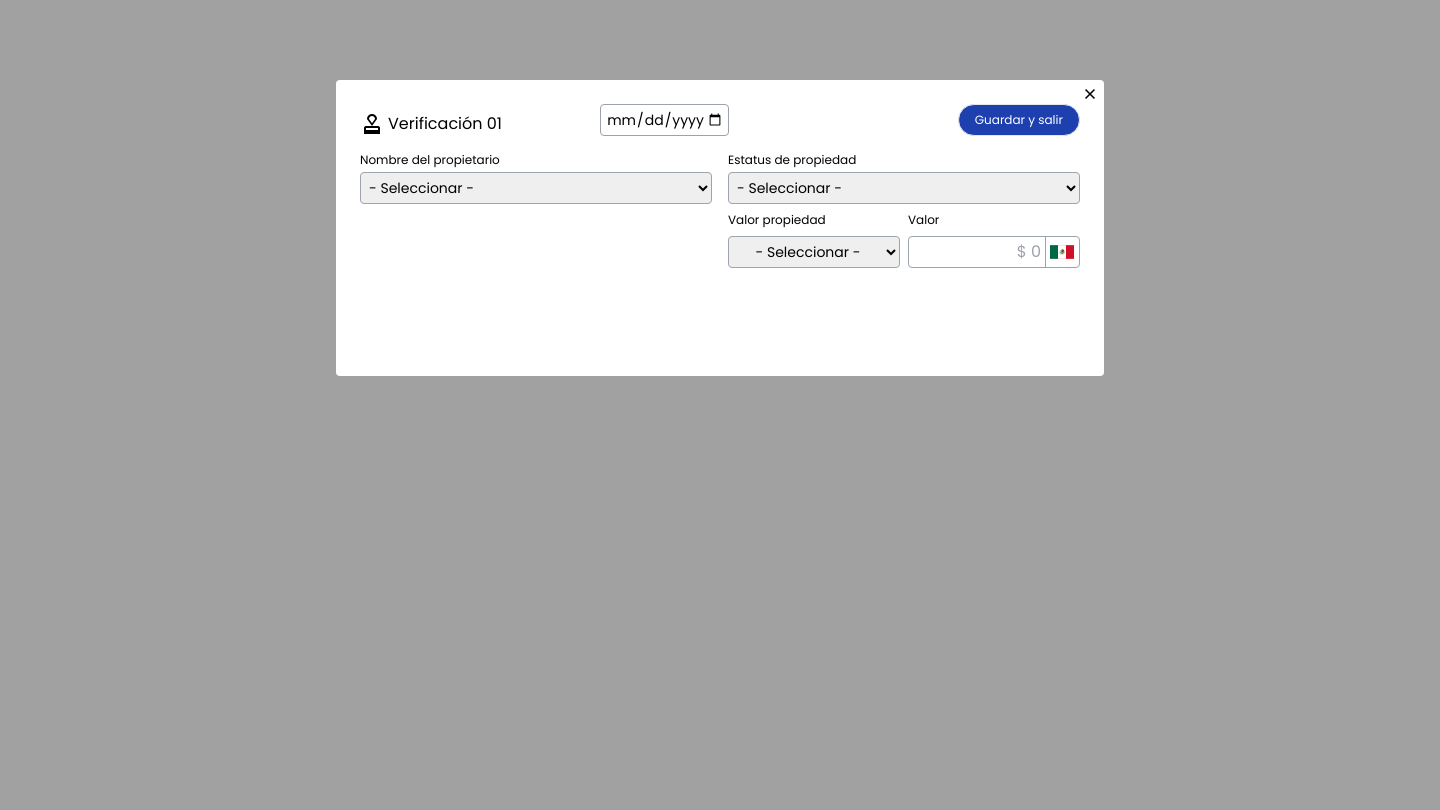
VerificationForm › It should display the applicant name and textbox when selecting "Co-propietario (Solicitante y otros)".
The image size is (1440, 810).
Select "Co-propietario (Solicitante y otros)" in the dropdown labelled "Nombre del propietario" at (536, 188), box left=360, top=172, right=712, bottom=204
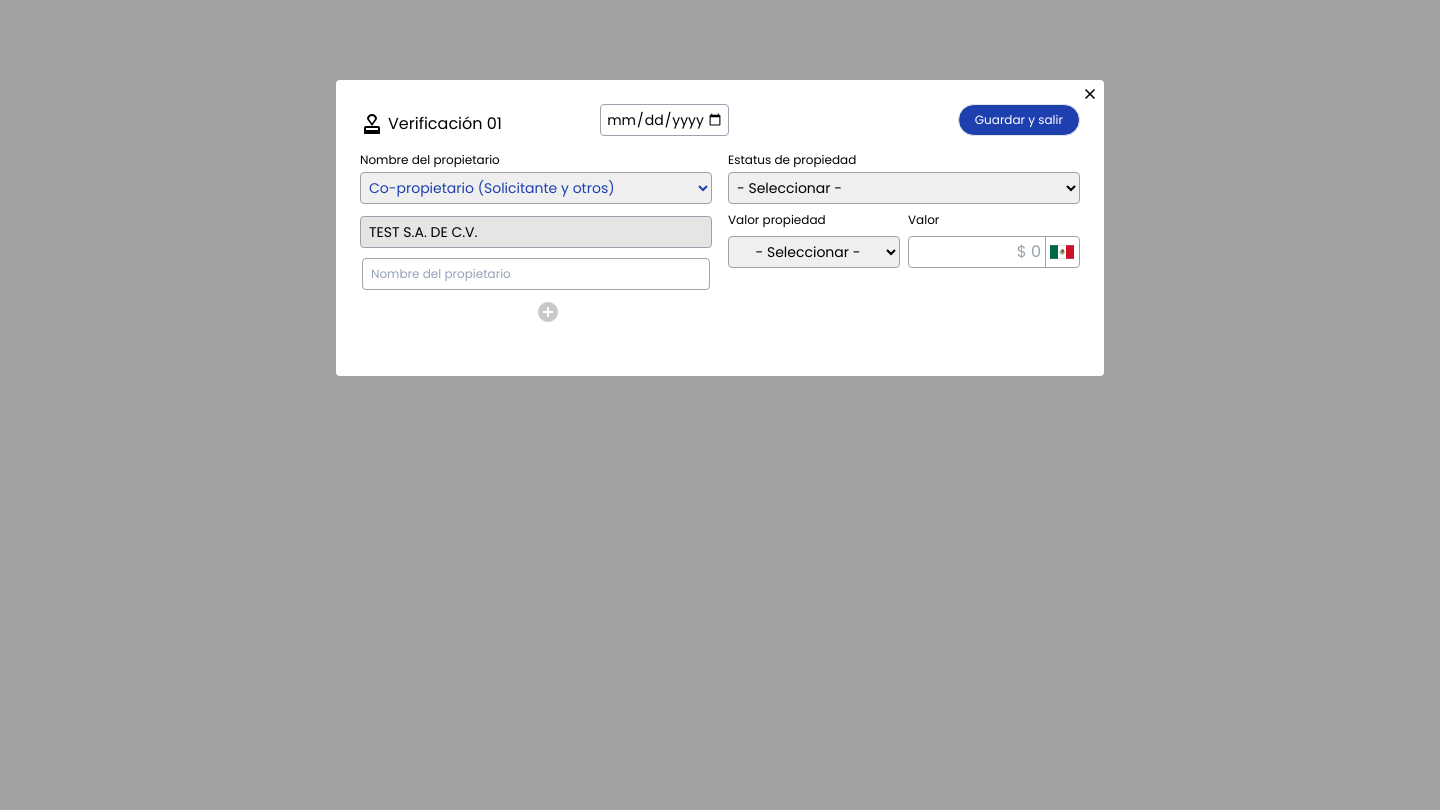
Now the text "TEST S.A. DE C.V." is shown, box left=360, top=216, right=712, bottom=248
Now the field with placeholder "Nombre del propietario" is shown, box left=362, top=258, right=710, bottom=290
Now the button named "add_circle" is disabled, box left=536, top=300, right=560, bottom=324
